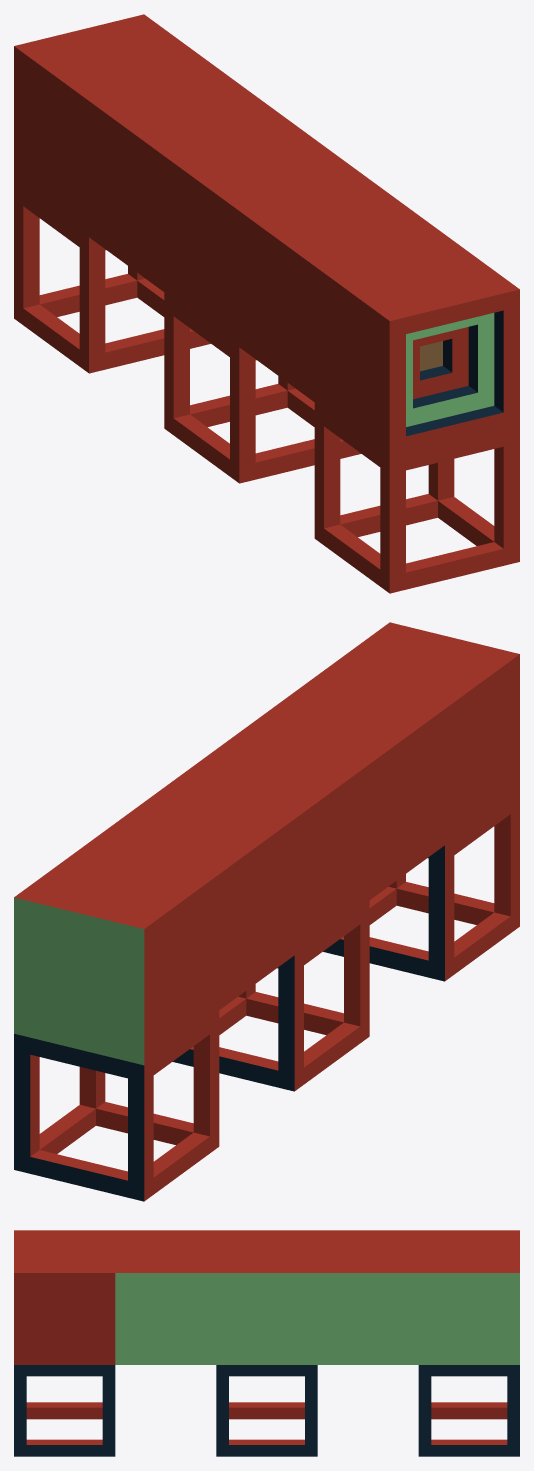
Rendered from Jellyfish_Prawn.fbx.
3 renders of one model, top to bottom at view 1: azimuth 30°, elevation 25°; view 2: azimuth 150°, elevation 25°; view 3: azimuth 270°, elevation 25°, orthographic. The views are drawn at different scales.
Visible parts, largest first — view 1: Box_S_cl4_007, Box_H_cl3_007, Box_cl4_001614, Box_cl4_001616, Box_cl4_001615, Box_cl4_001617, Box_H_cl3_009, Box_H_cl3_008; view 2: Box_cl4_001617, Box_H_cl3_009, Box_cl4_001614, Box_cl4_001616, Box_cl4_001615, Box_S_cl4_007, Box_H_cl3_007, Box_H_cl3_008; view 3: Box_S_cl4_007, Box_cl4_001614, Box_cl4_001615, Box_cl4_001616, Box_cl4_001617, Box_H_cl3_007, Box_H_cl3_009, Box_H_cl3_008.
Boxes of the visible parts, x1,y1,x2,y2 form: Box_S_cl4_007: [314, 234, 519, 457]; Box_H_cl3_007: [314, 403, 519, 593]; Box_cl4_001614: [239, 179, 444, 401]; Box_cl4_001616: [89, 69, 293, 291]; Box_cl4_001615: [164, 124, 369, 346]; Box_cl4_001617: [14, 14, 218, 236]; Box_H_cl3_009: [14, 182, 210, 373]; Box_H_cl3_008: [164, 292, 361, 483]; Box_cl4_001617: [14, 842, 219, 1065]; Box_H_cl3_009: [14, 1011, 219, 1201]; Box_cl4_001614: [240, 677, 444, 899]; Box_cl4_001616: [89, 787, 294, 1009]; Box_cl4_001615: [164, 732, 369, 954]; Box_S_cl4_007: [315, 622, 519, 844]; Box_H_cl3_007: [323, 790, 519, 981]; Box_H_cl3_008: [172, 900, 369, 1091]; Box_S_cl4_007: [14, 1230, 115, 1364]; Box_cl4_001614: [115, 1230, 216, 1364]; Box_cl4_001615: [216, 1230, 317, 1364]; Box_cl4_001616: [317, 1230, 418, 1364]; Box_cl4_001617: [418, 1230, 519, 1364]; Box_H_cl3_007: [14, 1365, 115, 1456]; Box_H_cl3_009: [418, 1365, 519, 1456]; Box_H_cl3_008: [216, 1365, 317, 1456].
Size of the model in its own units: 10 by 20 by 50.
